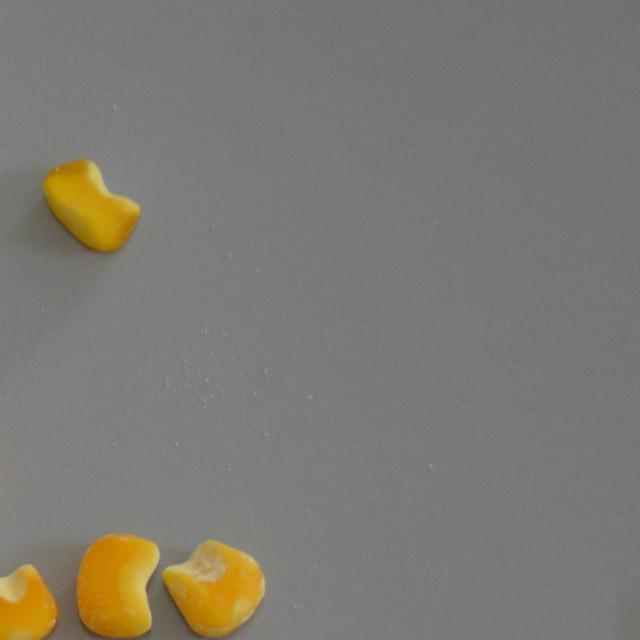no_canjicado: (41, 158, 140, 252), (0, 563, 57, 640)
pelicula: (161, 538, 267, 638), (74, 533, 162, 638)
